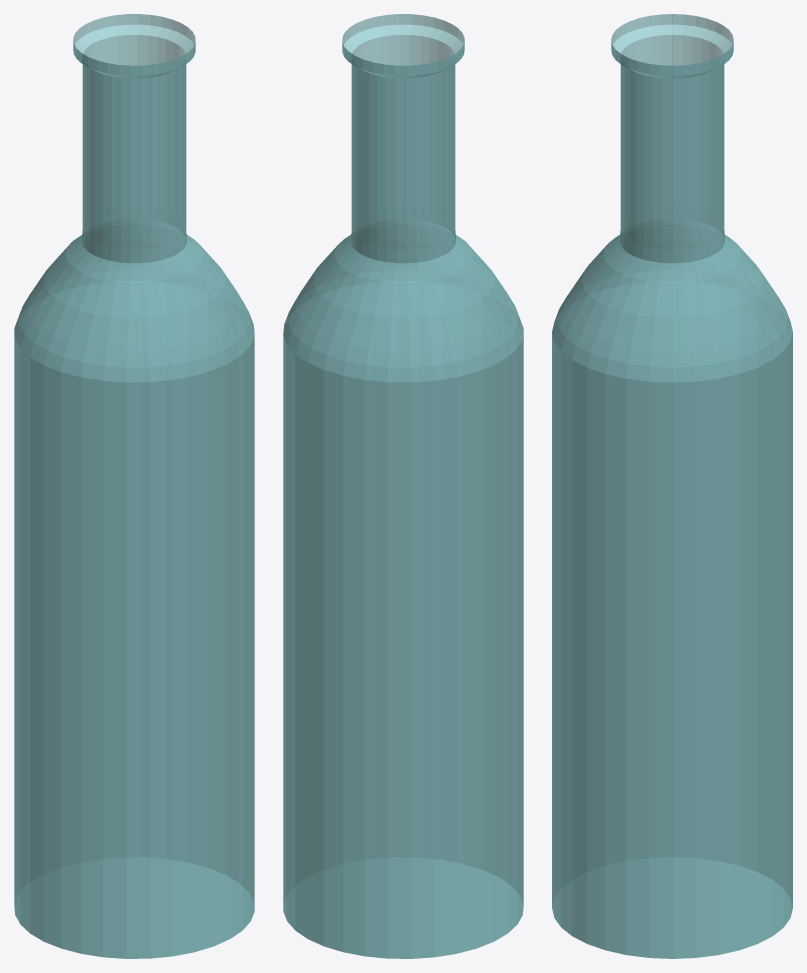
File: bottle_wodka.glb
3 renders of one model, left to right at view 1: azimuth 30°, elevation 25°; view 2: azimuth 150°, elevation 25°; view 3: azimuth 270°, elevation 25°, orthographic.
Parts seen in each view (by area): view 1: Cylinder; view 2: Cylinder; view 3: Cylinder.
Boxes of the visible parts, bbox=[...] form: Cylinder: bbox=[14, 14, 254, 958]; Cylinder: bbox=[283, 14, 523, 958]; Cylinder: bbox=[552, 14, 792, 958].
Bounding box in the file's own units: 0.1 × 0.3977 × 0.1.
